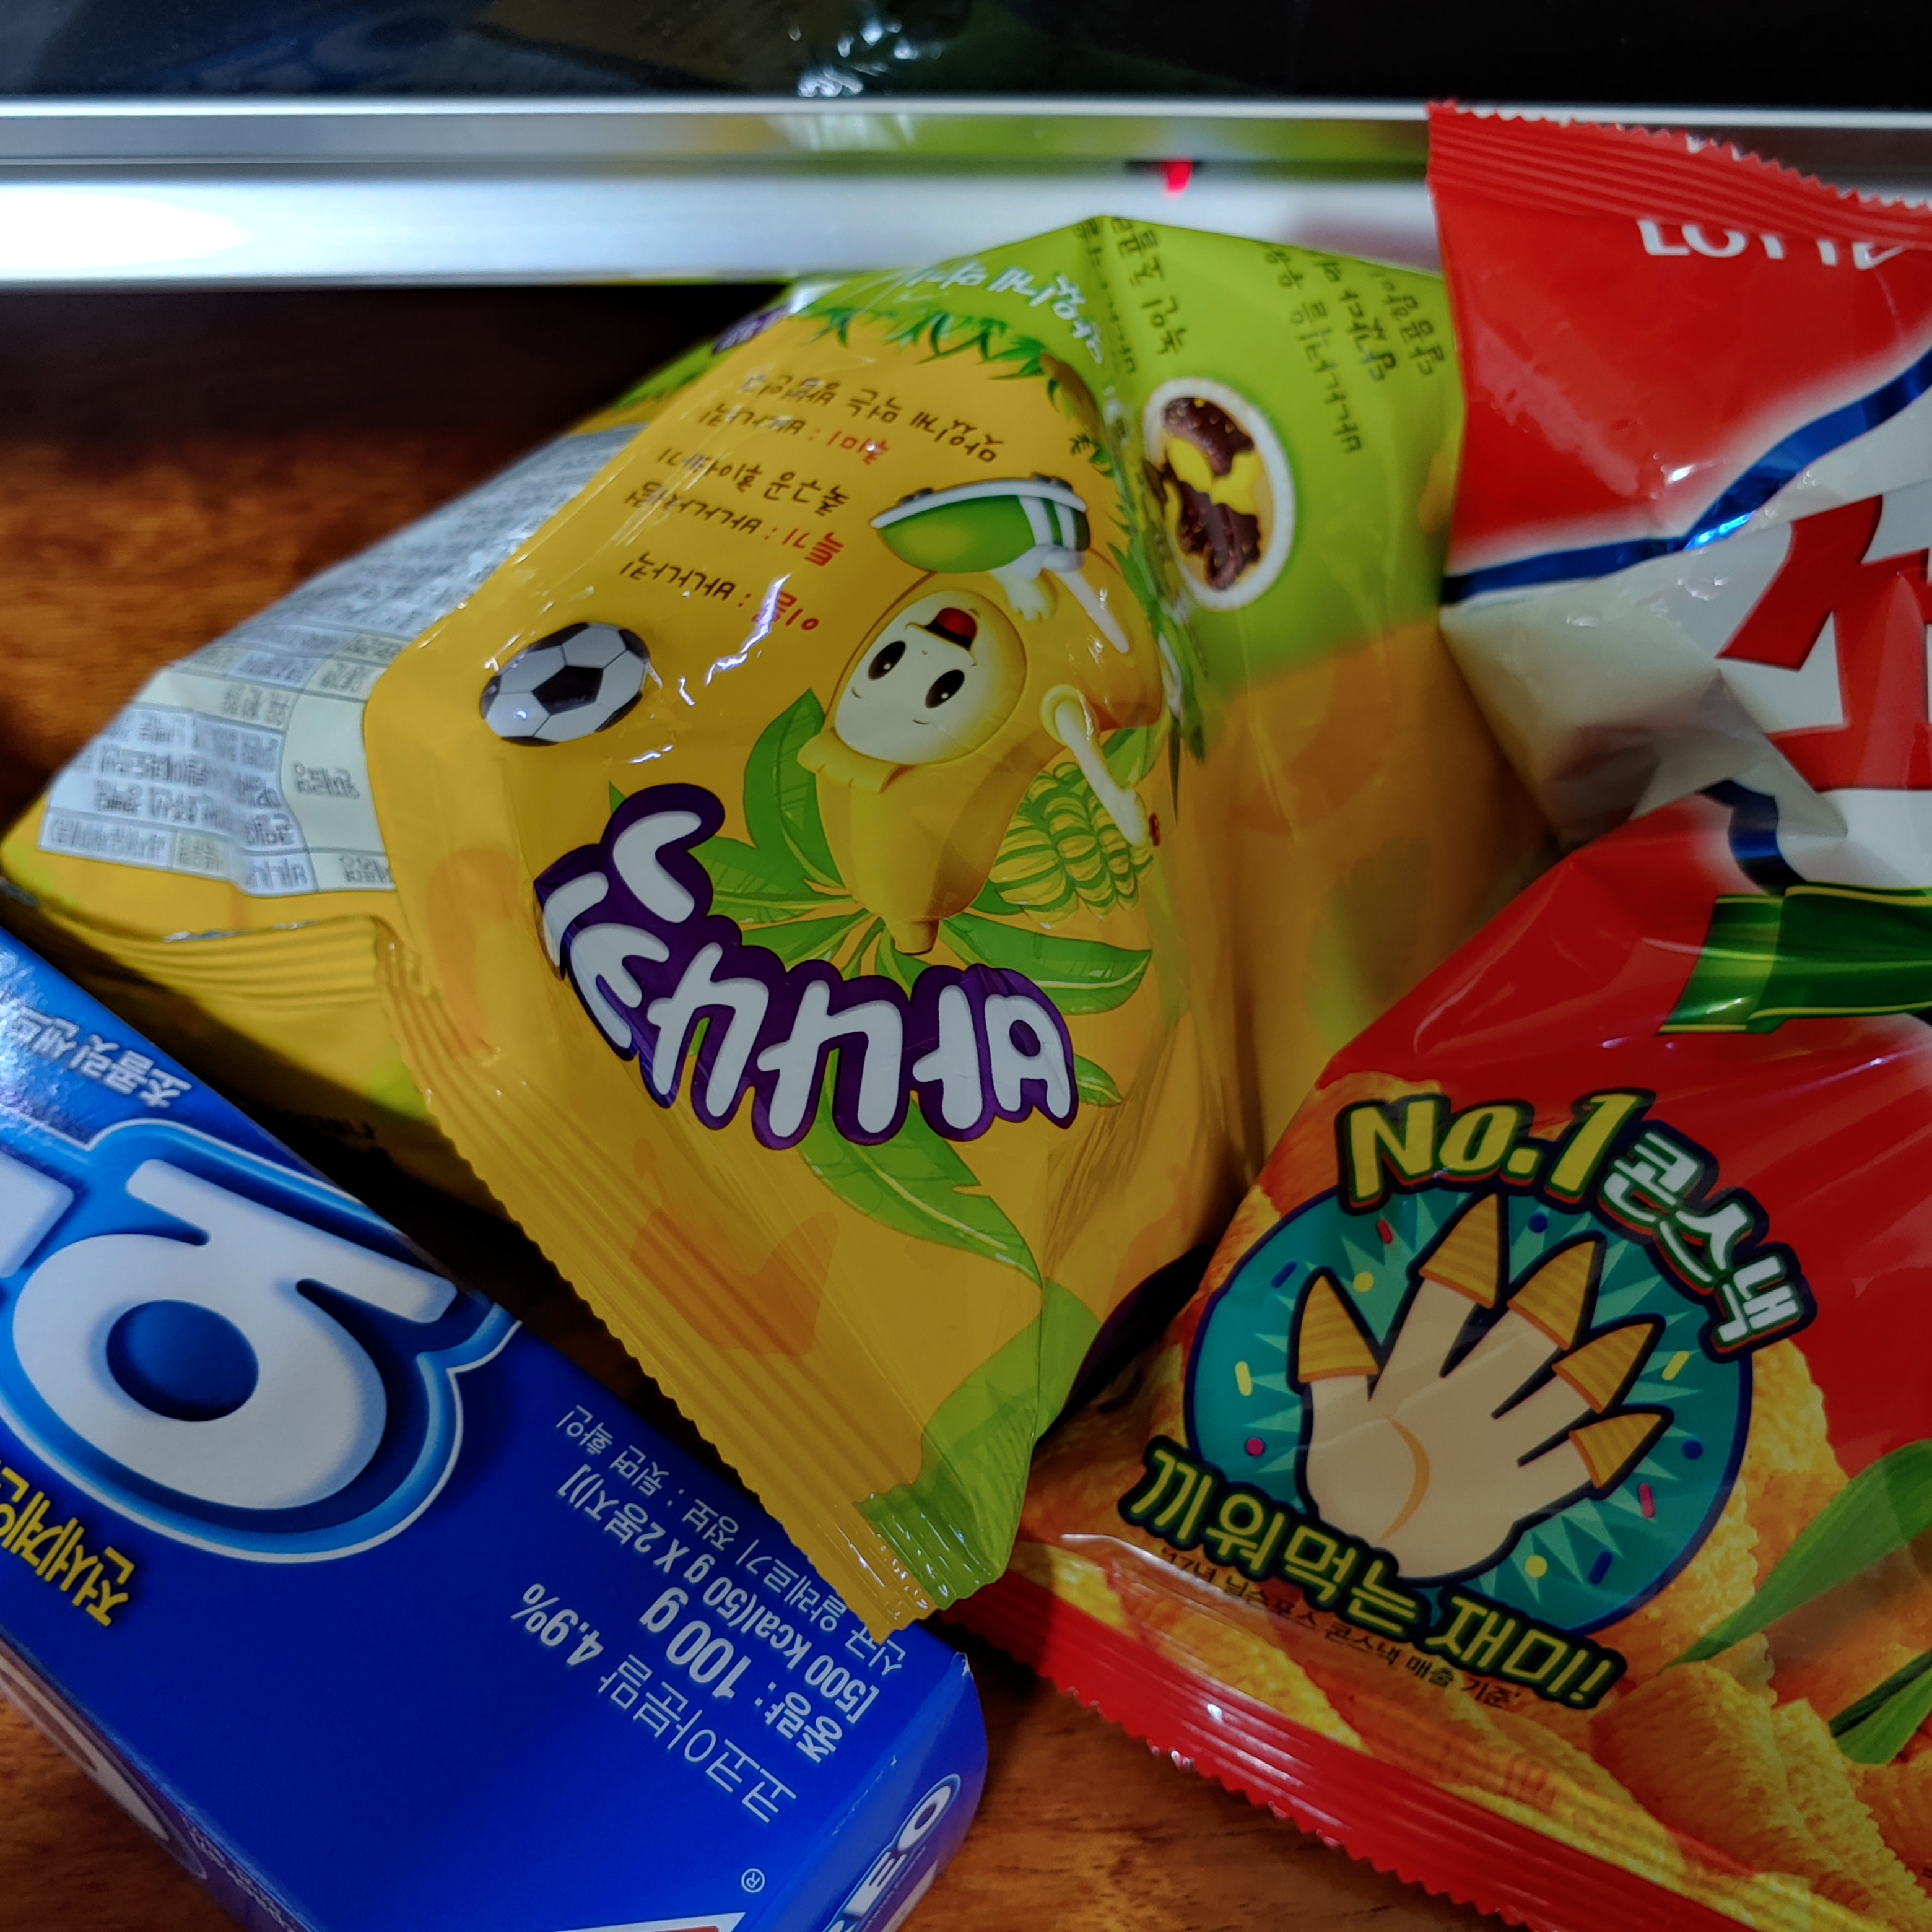banana: (51, 111, 1525, 1571)
ggoggalcon: (1081, 46, 1932, 1932)
oreo: (0, 909, 1040, 1923)
